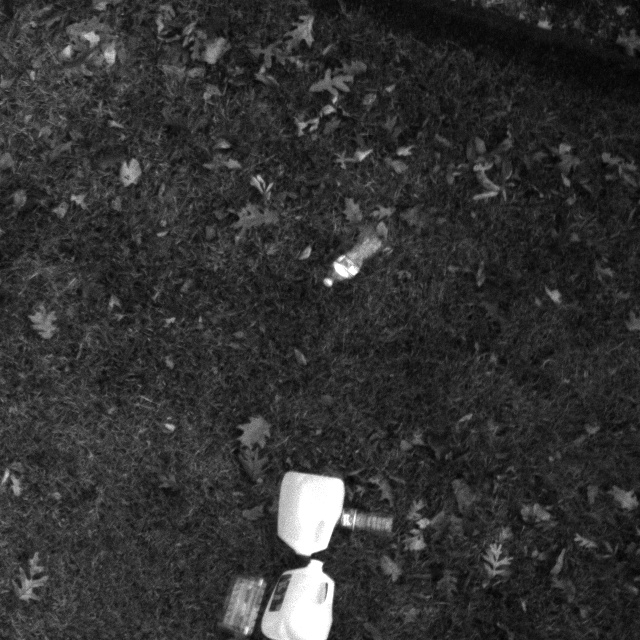bottle: (324, 233, 377, 293), (333, 495, 391, 545)
can: (264, 460, 353, 572), (254, 550, 345, 640)
container: (221, 564, 266, 640)
